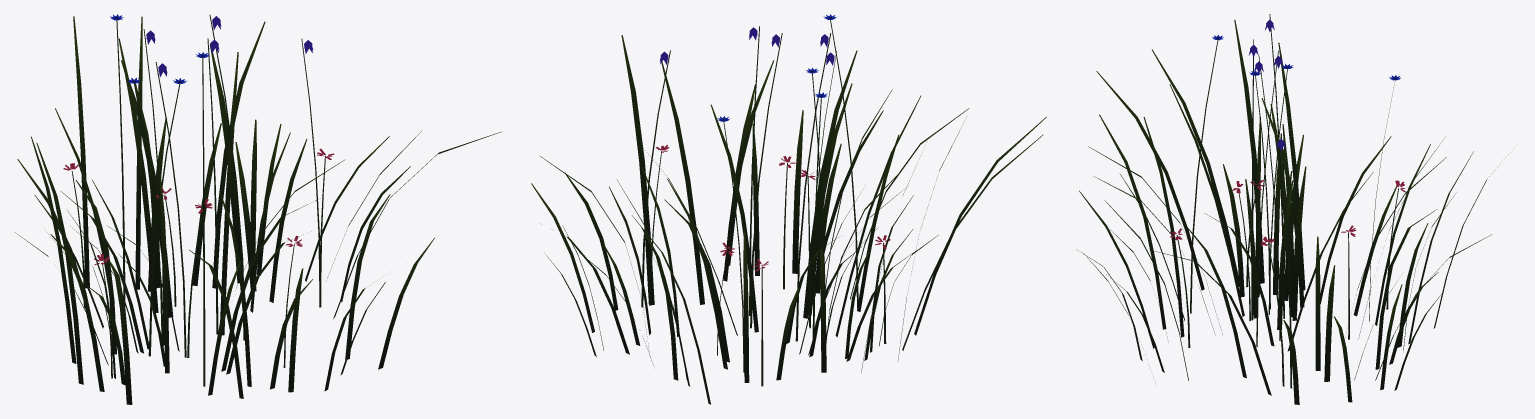
File: SM_Flowers_B.fbx
3 views of the same model, side by side, from view 1: azimuth 30°, elevation 25°; view 2: azimuth 150°, elevation 25°; view 3: azimuth 270°, elevation 25° (orthographic). The views are drawn at different scales.
Parts seen in each view (by area): view 1: SM_Flowers_B; view 2: SM_Flowers_B; view 3: SM_Flowers_B.
Part boxes in pixels (x1,y1,x2,y2): SM_Flowers_B: [15, 14, 501, 404]; SM_Flowers_B: [531, 14, 1046, 404]; SM_Flowers_B: [1076, 14, 1514, 404].
Size of the model in its own units: 69.9 by 67.32 by 49.75.
